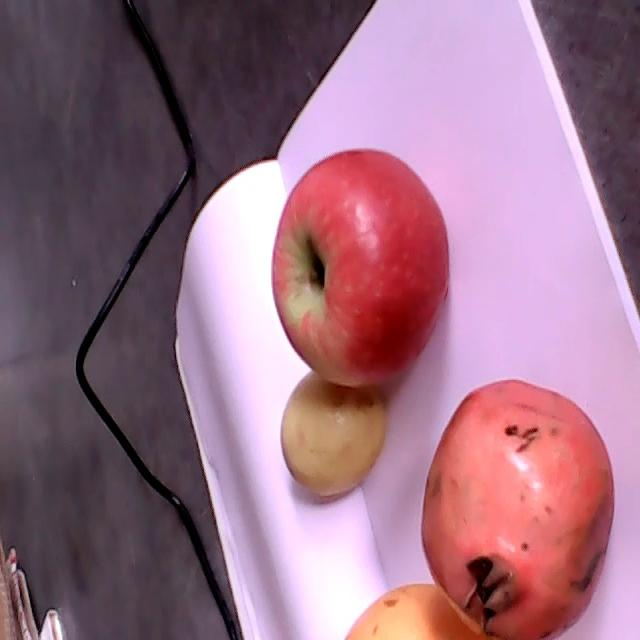apple: (271, 150, 450, 388)
lemon: (281, 371, 388, 496), (344, 582, 478, 639)
pomegranate: (424, 381, 615, 638)
